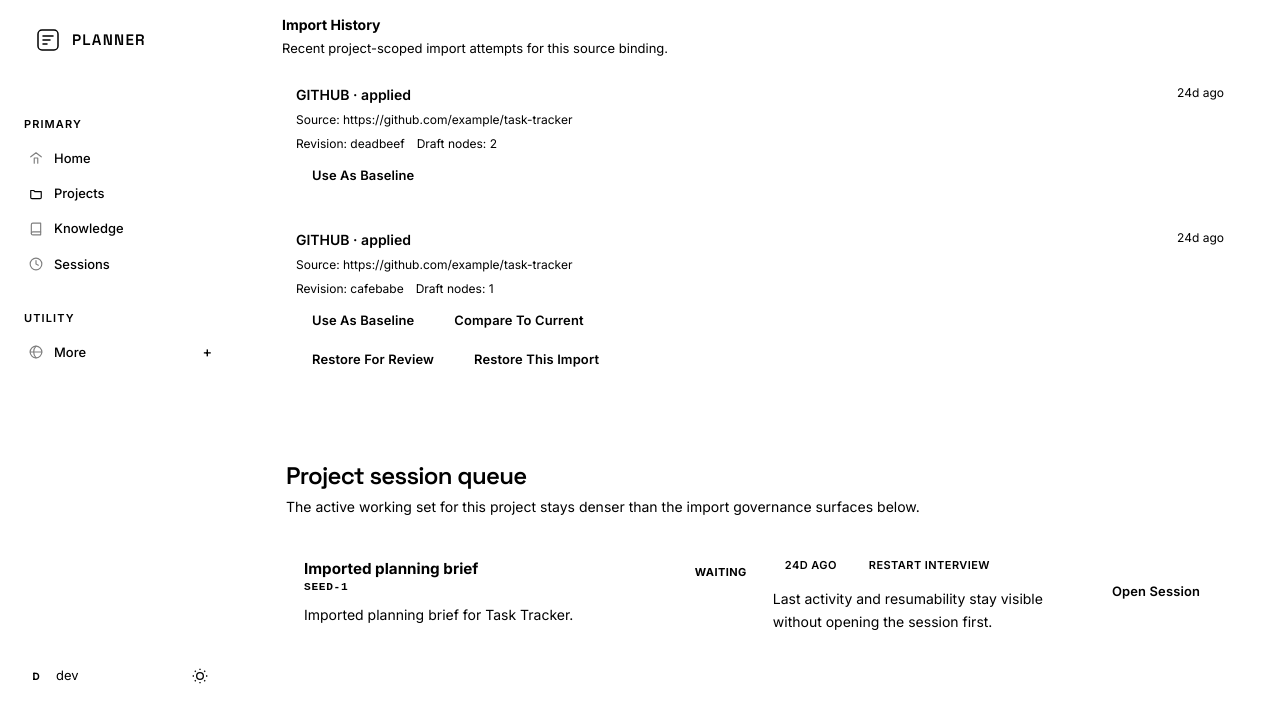
Test: ProjectSessionsPage import review › reopens an older applied import into the current review slot
The image size is (1280, 720).
(page scrolled)
Click the button "Restore For Review": {"x": 373, "y": 360} top-left (296, 343), bottom-right (450, 377)
(page scrolled)
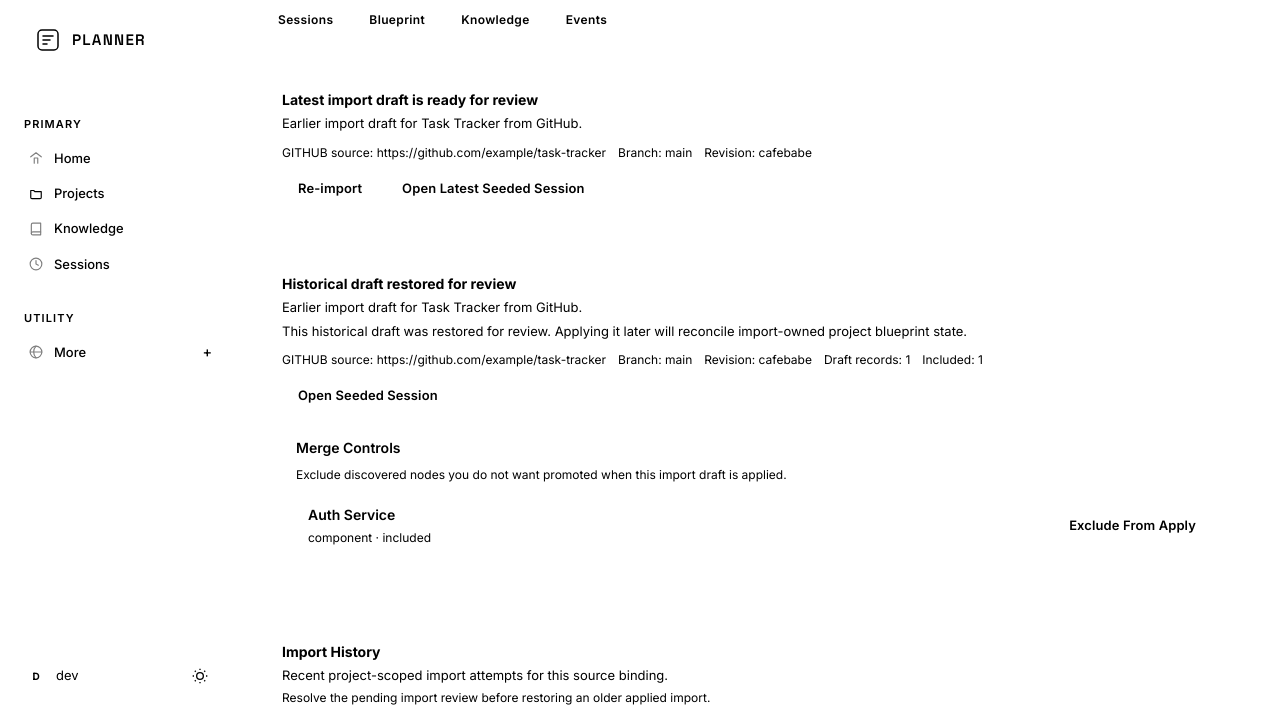
Check: the text "Historical draft restored for review" is shown, box top-left (282, 275), bottom-right (516, 292)
Check: the text "Included: 1" is shown, box top-left (922, 351), bottom-right (983, 369)
